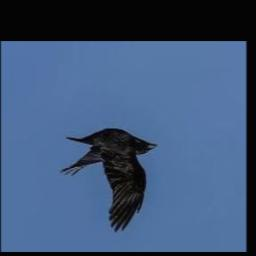Crow: (60, 129, 157, 233)
